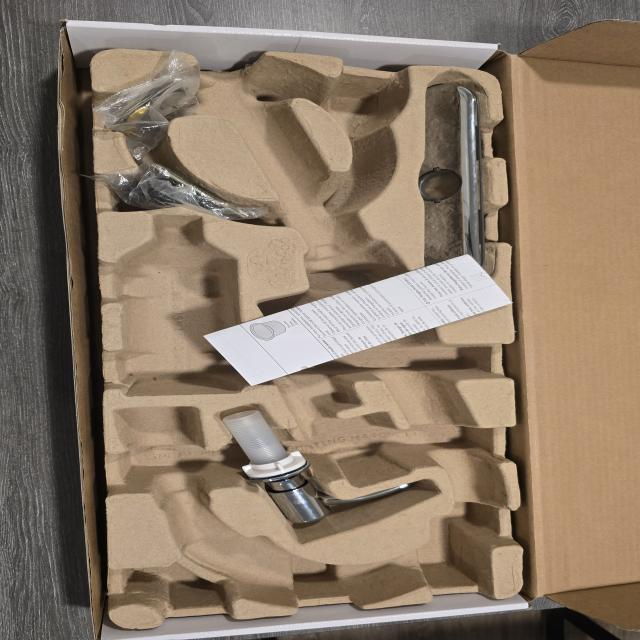1m: (119, 57, 504, 605)
2: (223, 411, 409, 526)
3m: (121, 212, 238, 395)
4o: (419, 82, 485, 286)
5m: (324, 81, 404, 136)
6: (92, 45, 203, 160)
7: (80, 161, 269, 219)
8: (204, 253, 514, 387)
